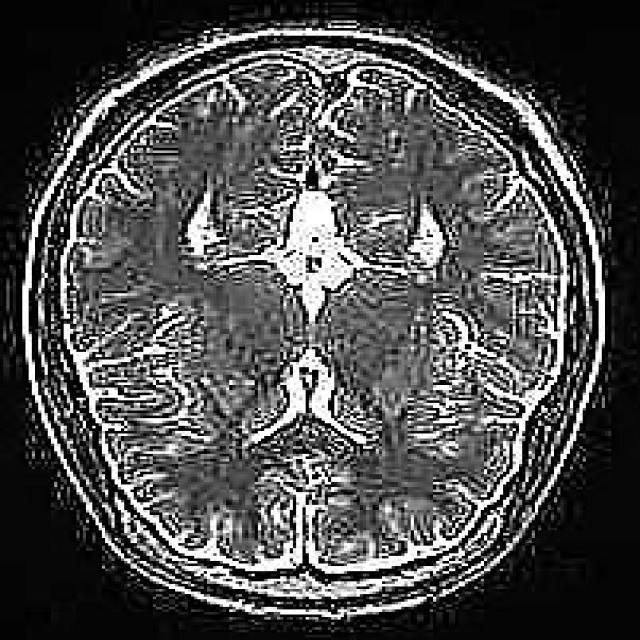notumor: (25, 25, 602, 617)
